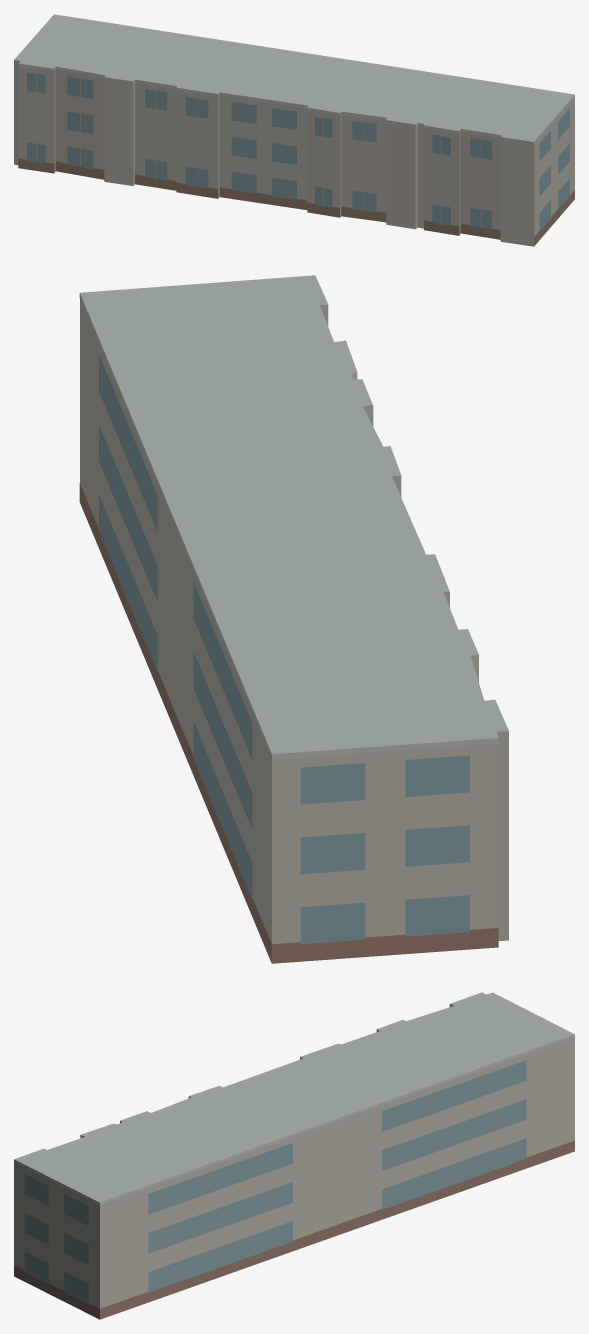
File: survey-upis-32930410.glb
3 renders of one model, top to bottom at view 1: azimuth 30°, elevation 25°; view 2: azimuth 150°, elevation 25°; view 3: azimuth 270°, elevation 25°, orthographic. The views are drawn at different scales.
Parts seen in each view (by area): view 1: survey-upis-32930410.tmp; view 2: survey-upis-32930410.tmp; view 3: survey-upis-32930410.tmp.
Part boxes in pixels (x1,y1,x2,y2): survey-upis-32930410.tmp: (14, 14, 574, 246); survey-upis-32930410.tmp: (79, 275, 508, 963); survey-upis-32930410.tmp: (14, 992, 574, 1319).
Size of the model in its own units: 35.26 by 9.15 by 39.73.
